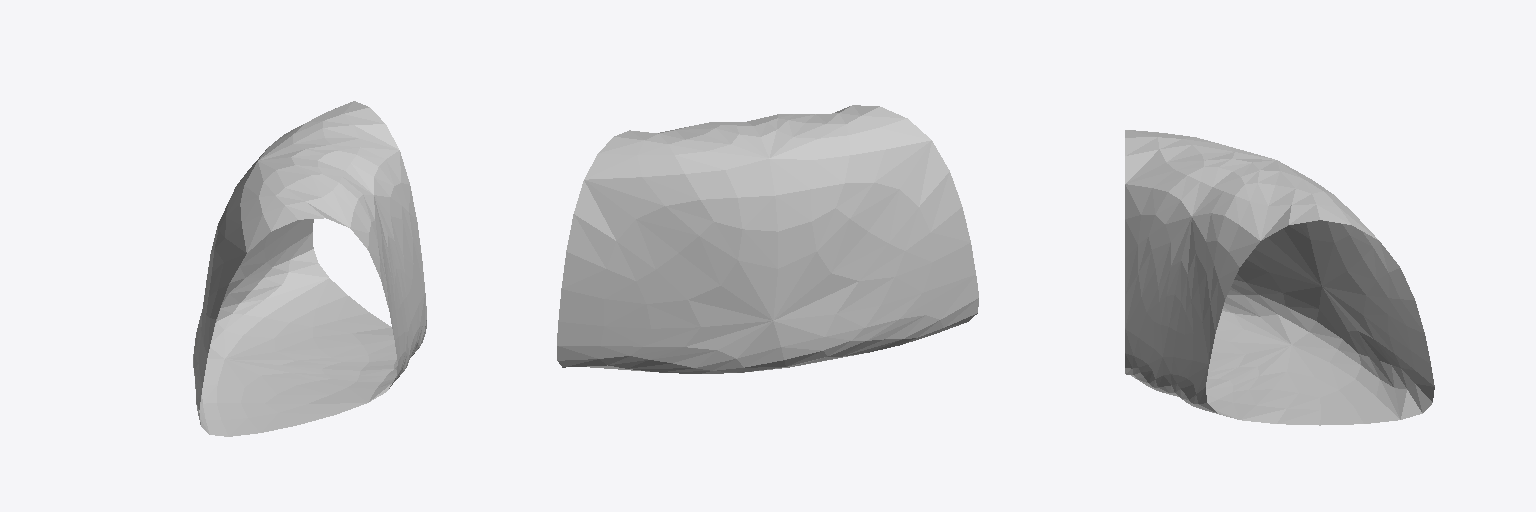
The model's file is cave_901r_0.obj.
3 views of the same model, side by side, from view 1: azimuth 30°, elevation 25°; view 2: azimuth 150°, elevation 25°; view 3: azimuth 270°, elevation 25° (orthographic).
Visible parts, largest first — view 1: cave_901r_0_Cube.071; view 2: cave_901r_0_Cube.071; view 3: cave_901r_0_Cube.071.
Boxes of the visible parts, x1=… form: cave_901r_0_Cube.071: x1=193, y1=101, x2=426, y2=436; cave_901r_0_Cube.071: x1=557, y1=105, x2=978, y2=373; cave_901r_0_Cube.071: x1=1125, y1=130, x2=1434, y2=425.
Size of the model in its own units: 7.94 by 5.92 by 7.94.